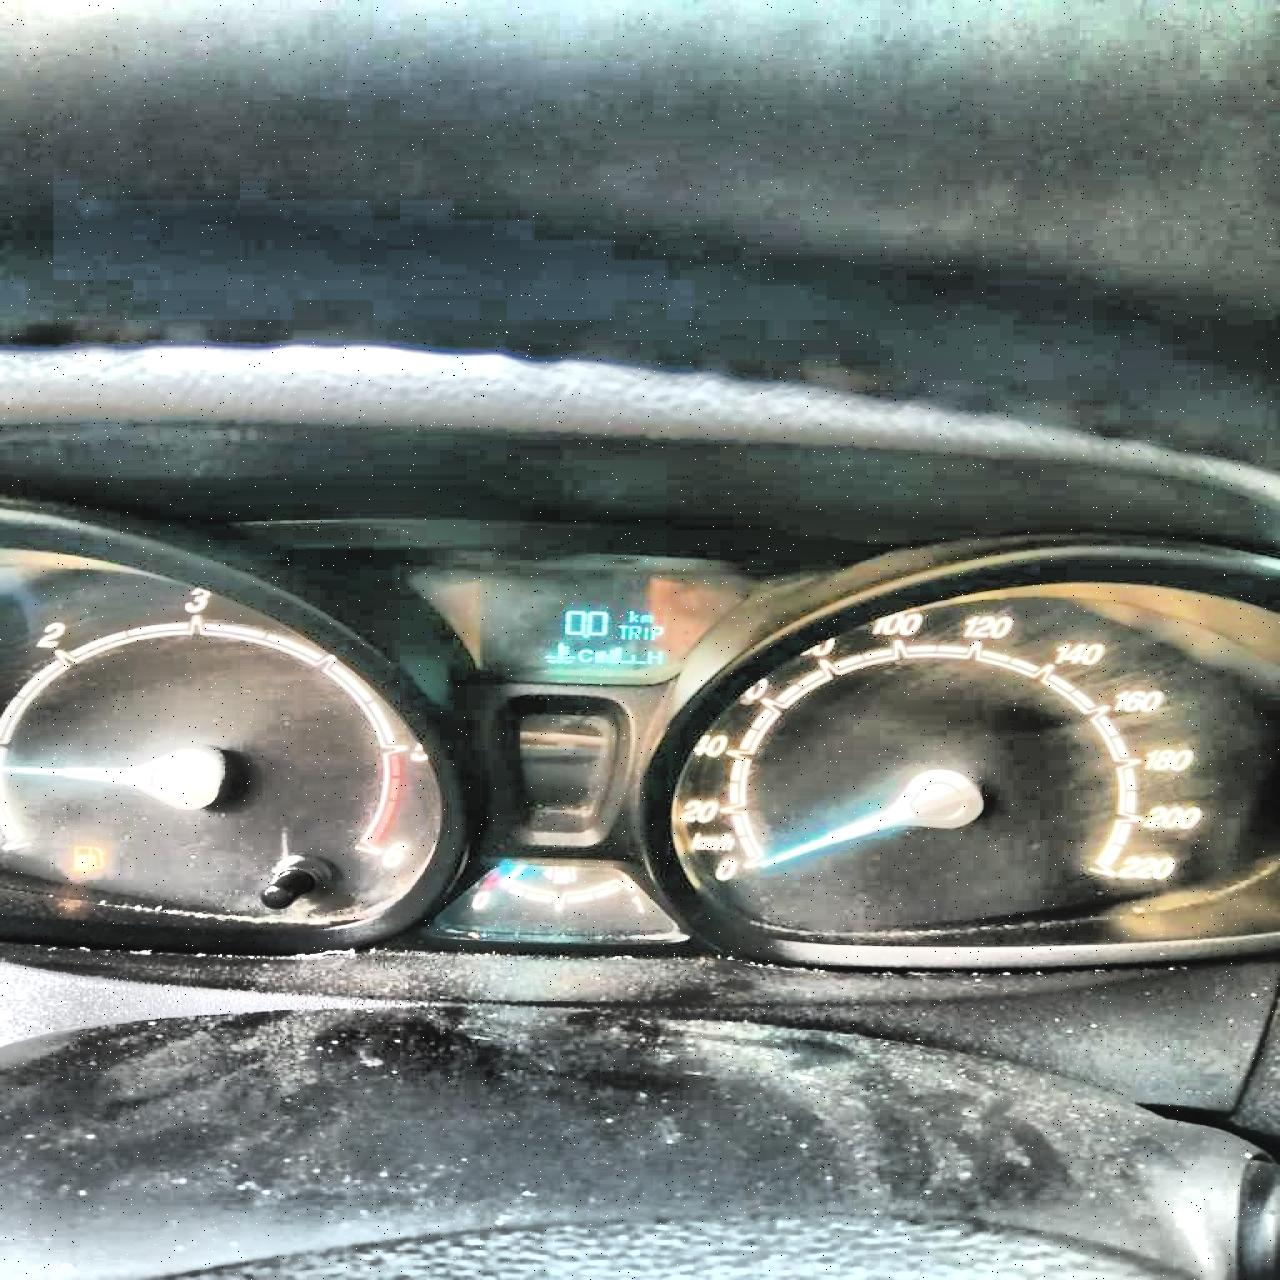-: (581, 633, 588, 638)
0: (585, 610, 608, 635), (564, 610, 585, 635)
X: (645, 649, 662, 665), (576, 647, 592, 661), (648, 625, 663, 639), (627, 624, 640, 639), (615, 624, 627, 639), (627, 608, 639, 622), (639, 613, 654, 622), (641, 625, 648, 640)
odometer: (468, 593, 696, 688)
